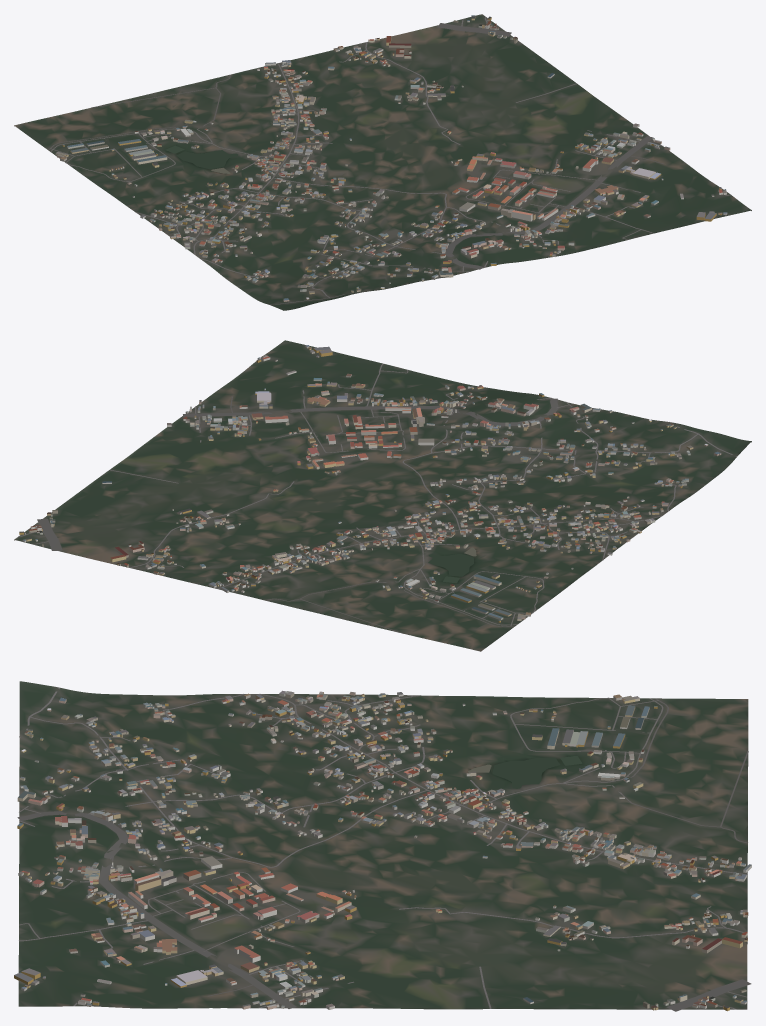
3 views of the same model, one above another, from view 1: azimuth 30°, elevation 25°; view 2: azimuth 150°, elevation 25°; view 3: azimuth 270°, elevation 25° (orthographic). The views are drawn at different scales.
Visible parts, largest first — view 1: ground, buildings, roads, water; view 2: ground, buildings, roads, water; view 3: ground, buildings, roads, water.
Part boxes in pixels (left/top/right/bottom): ground: left=14, top=14, right=751, bottom=310; buildings: left=55, top=15, right=727, bottom=301; roads: left=48, top=17, right=731, bottom=304; water: left=165, top=145, right=237, bottom=173; ground: left=14, top=340, right=751, bottom=651; buildings: left=19, top=345, right=721, bottom=622; roads: left=18, top=355, right=737, bottom=633; water: left=428, top=547, right=476, bottom=583; ground: left=18, top=681, right=748, bottom=1009; buildings: left=14, top=690, right=751, bottom=1011; roads: left=17, top=687, right=751, bottom=1011; water: left=468, top=756, right=582, bottom=788.
Bounding box in the file's own units: 1417 × 48 × 1420.
